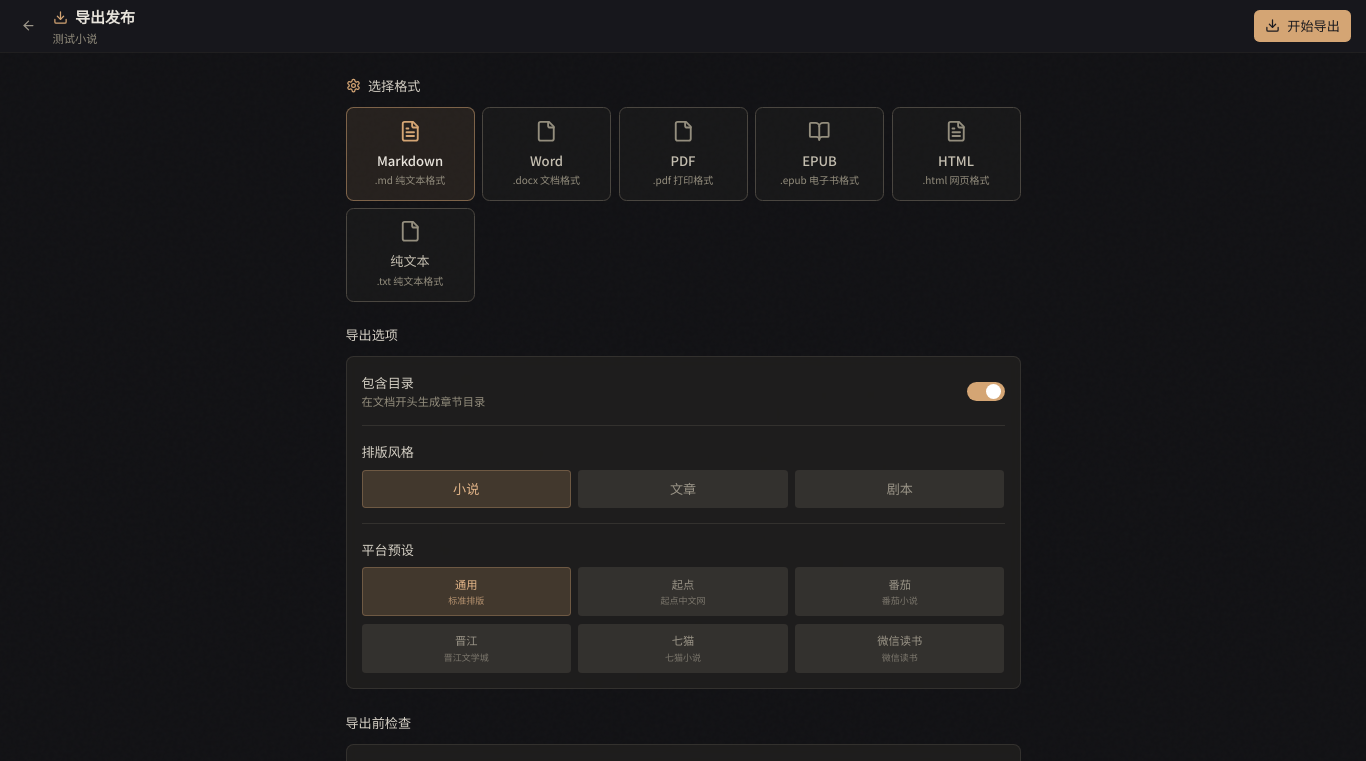
Test: ExportPage › txt 格式导出成功（Blob 下载）
Expected: the button "开始导出" is shown, top-left (1254, 10), bottom-right (1351, 42)
Click the text "纯文本" at (410, 261), box top-left (390, 251), bottom-right (430, 270)
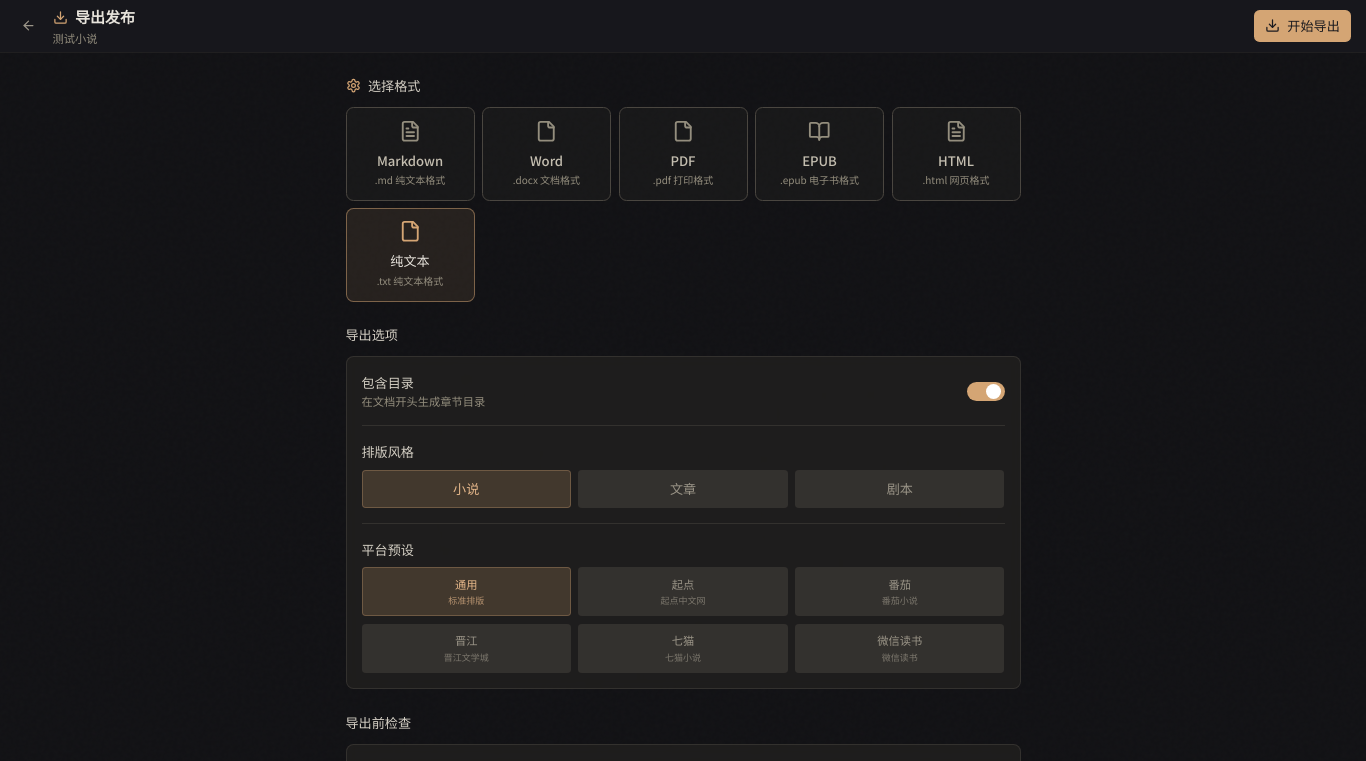
Click the button "开始导出" at (1302, 26), box top-left (1254, 10), bottom-right (1351, 42)
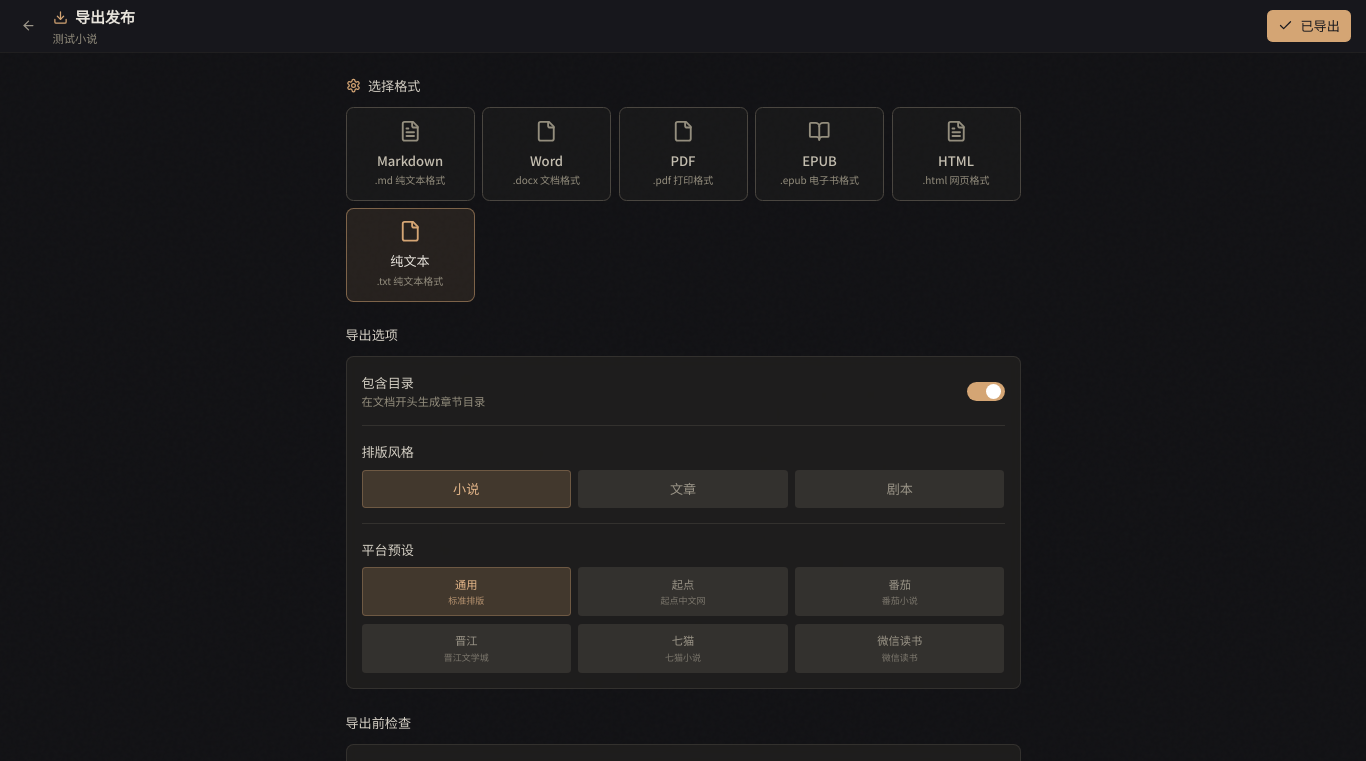
Now the button "已导出" is shown, box top-left (1267, 10), bottom-right (1351, 42)
